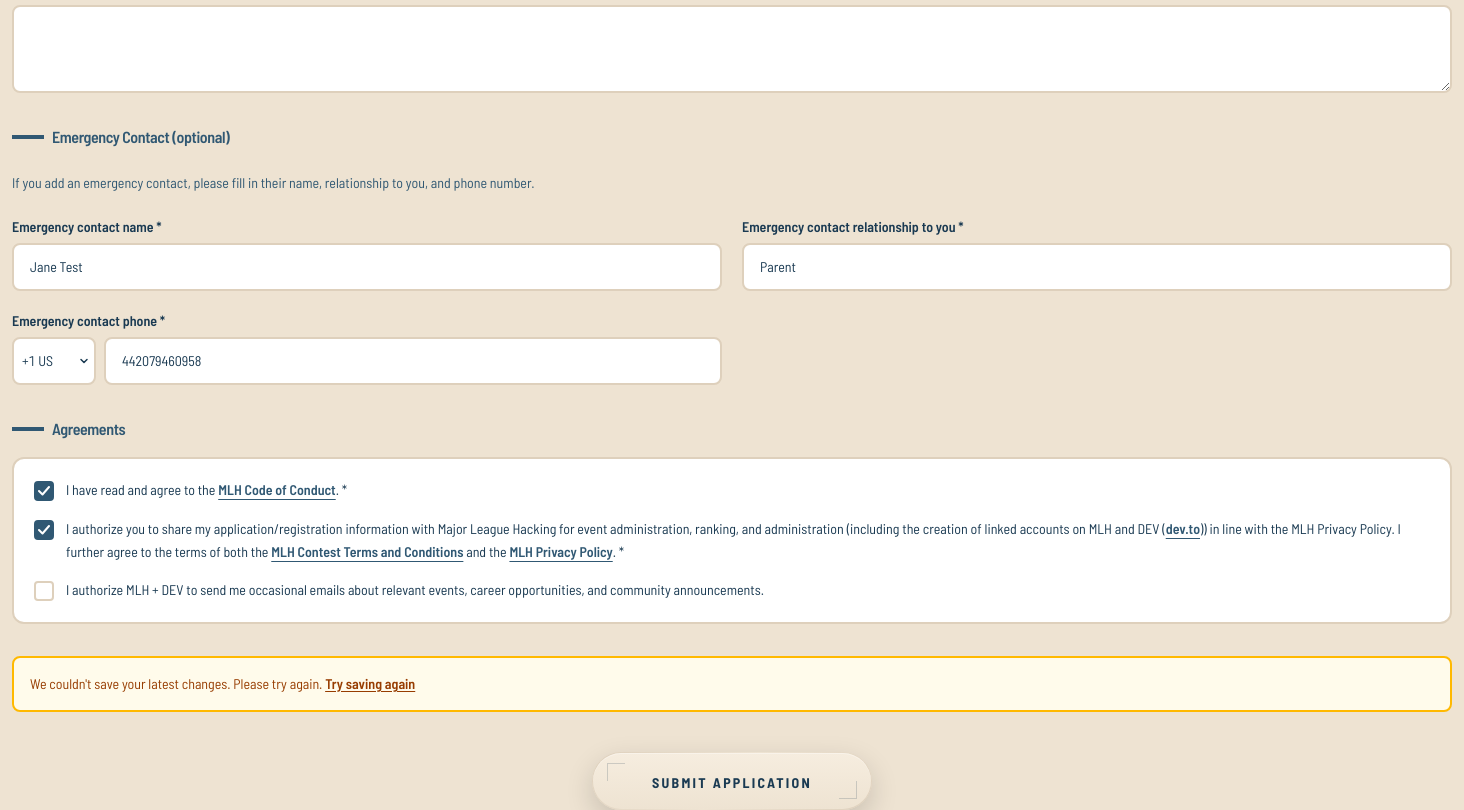
Test case: ApplicationForm draft loading and autosave › shows a retry control when autosave fails and clears it after a successful retry
(page scrolled)
Check: the text "We couldn't save your latest changes. Please try again." is shown, box [30,675,322,692]
Click the button "Try saving again" at x=370, y=684, box [325,674,415,694]
(page scrolled)
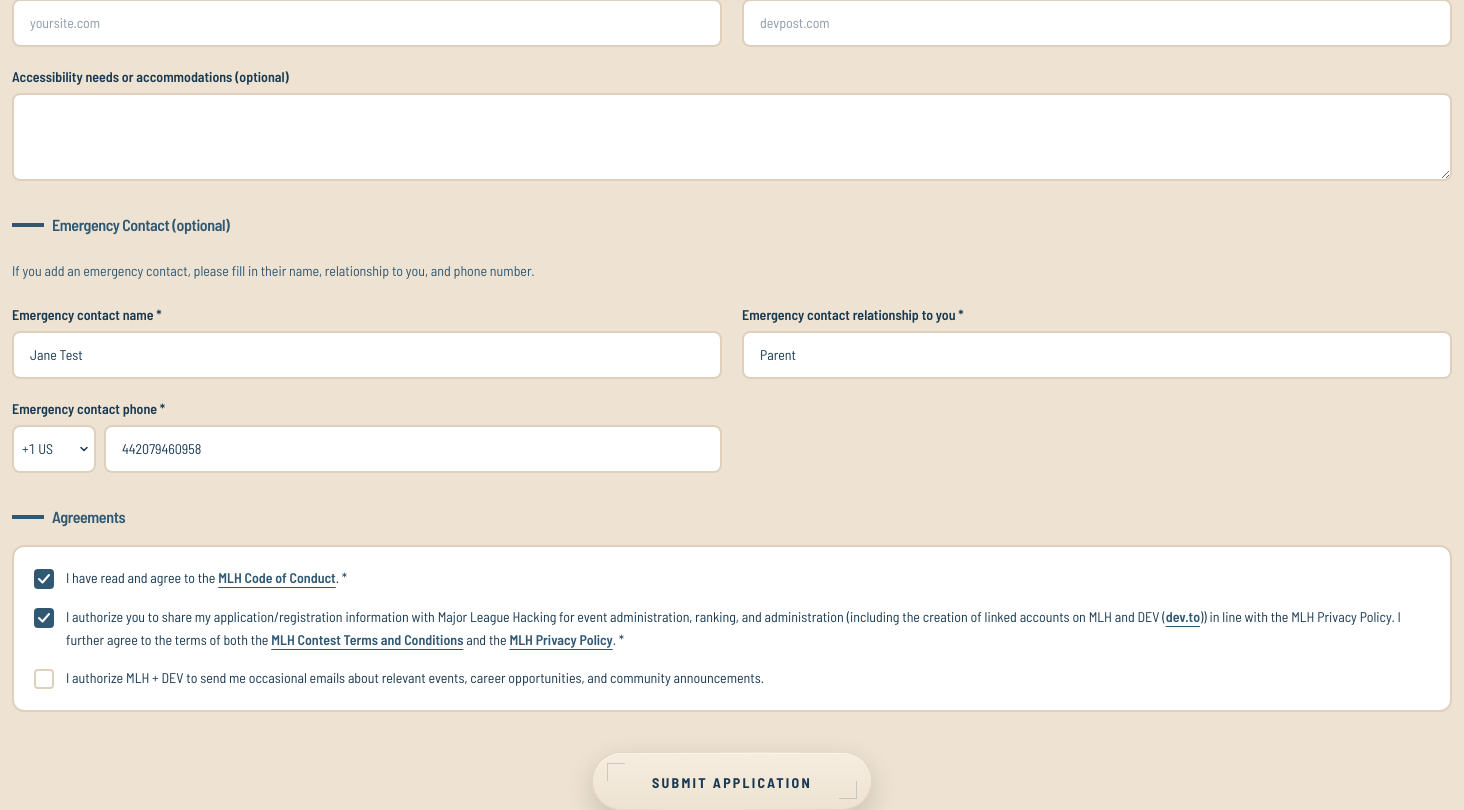
Check: the text "We couldn't save your latest changes. Please try again." is gone
